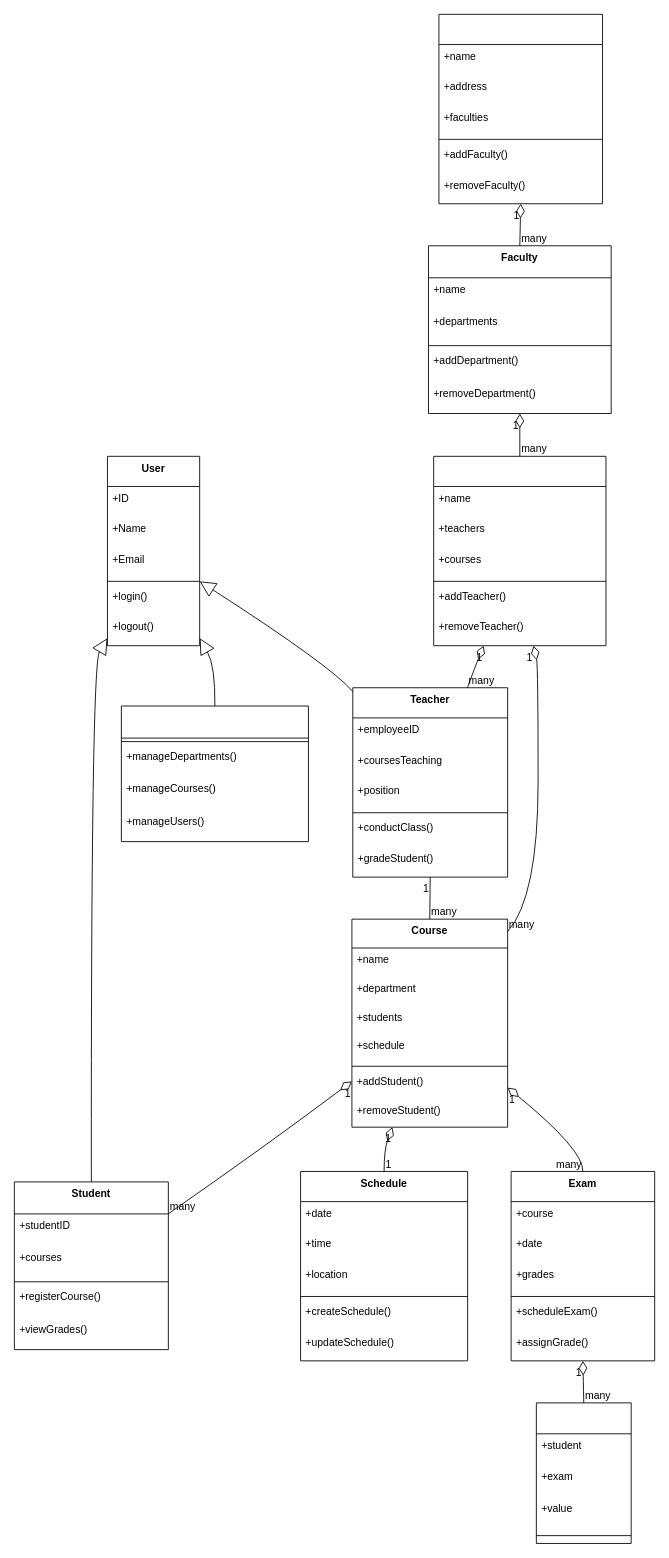
This 669x1558 diagram has some shape labels left out. Here are the shapes that lost their labels. From the top down, the box of each, then its label:
(438, 13, 602, 204): University
(433, 455, 606, 646): Department
(120, 705, 308, 842): Admin
(535, 1402, 631, 1543): Grade
